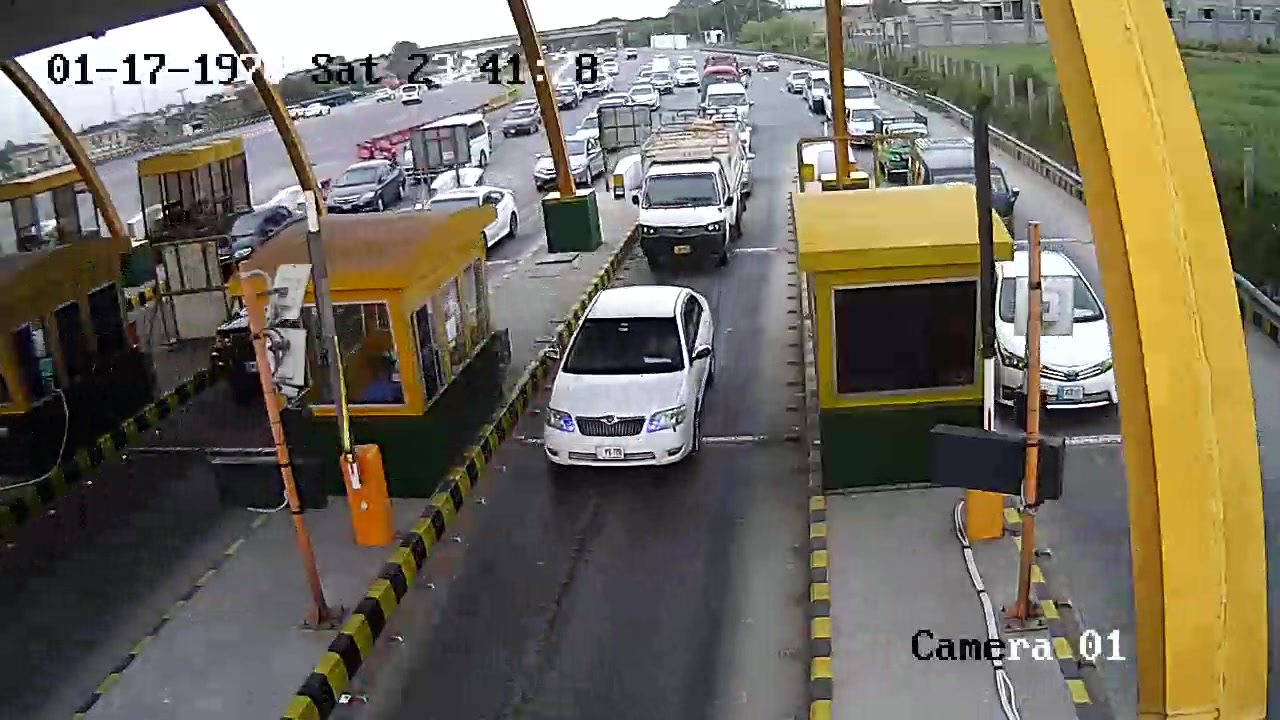F1: (534, 276, 739, 488)
